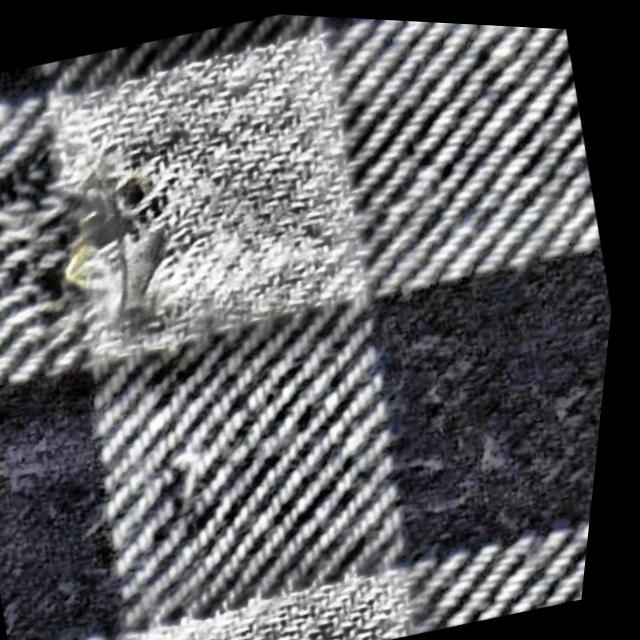Stitch: (0, 95, 329, 564)
